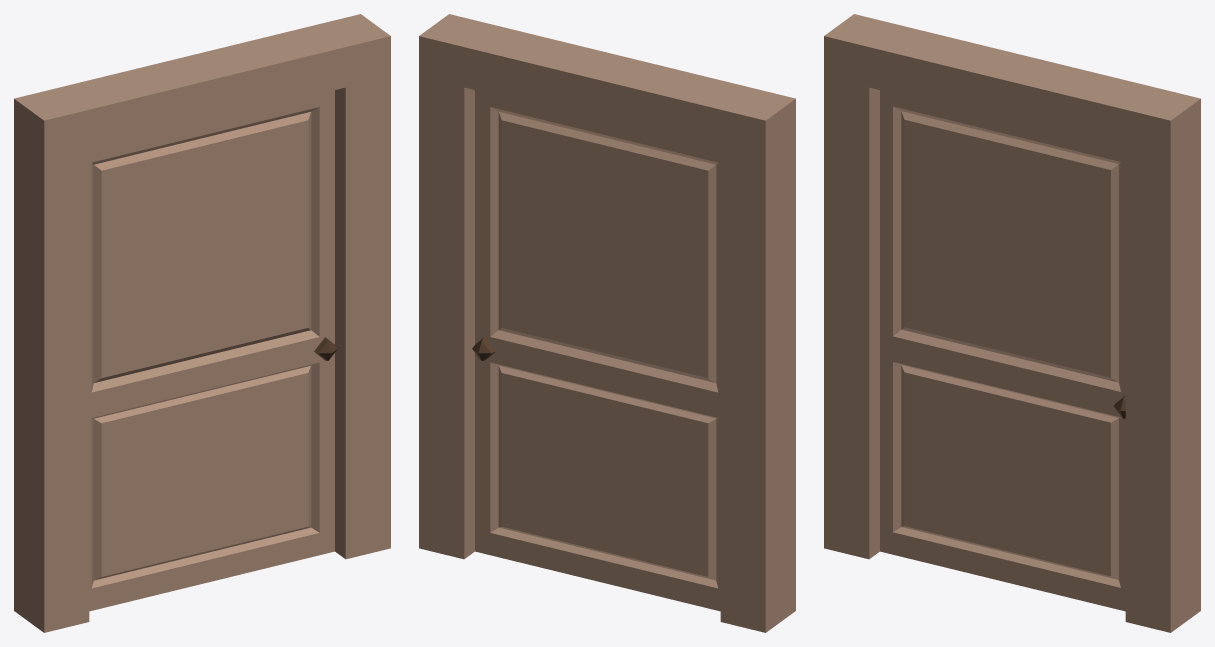
File: Door_2B.fbx
3 renders of one model, left to right at view 1: azimuth 30°, elevation 25°; view 2: azimuth 150°, elevation 25°; view 3: azimuth 330°, elevation 25°, orthographic.
Parts seen in each view (by area): view 1: polySurface2019, polySurface2018; view 2: polySurface2019, polySurface2018; view 3: polySurface2019, polySurface2018.
Part boxes in pixels (box(x1,y1,x2,y2)): polySurface2019: box(89, 90, 337, 611); polySurface2018: box(14, 14, 390, 632); polySurface2019: box(472, 90, 720, 611); polySurface2018: box(419, 14, 795, 632); polySurface2019: box(880, 90, 1125, 611); polySurface2018: box(824, 14, 1200, 632).
Size of the model in its own units: 2.3 by 3.25 by 0.3469.
Materials: 1 (1 with a texture image).
